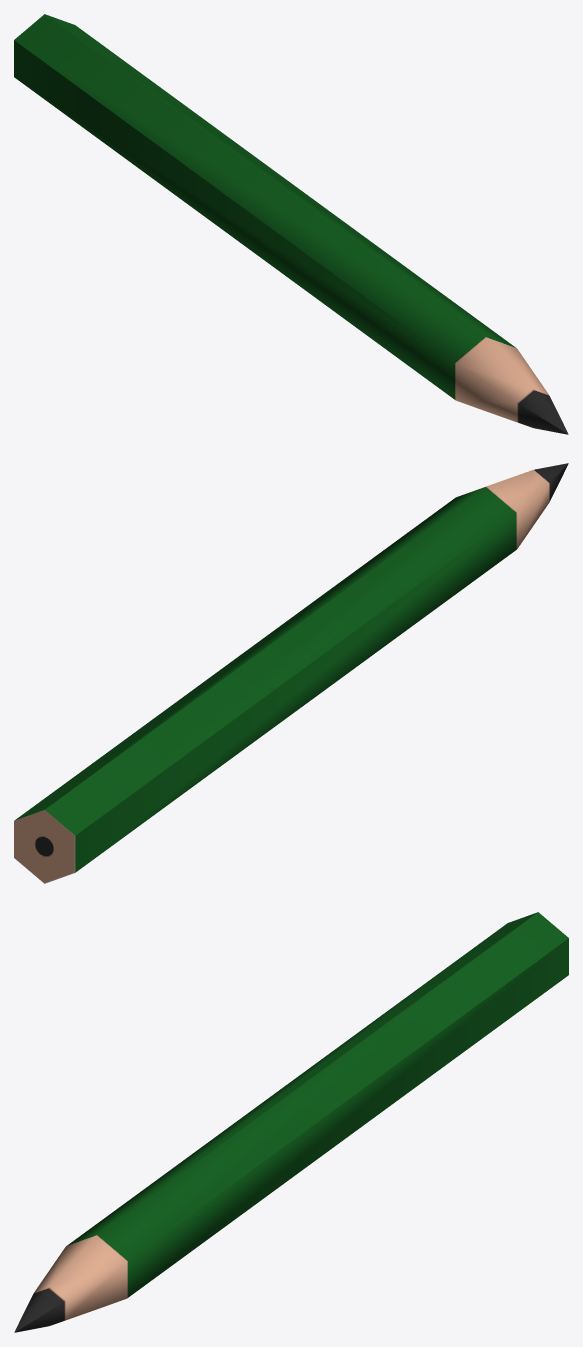
Rendered from accessory_01.glb.
3 renders of one model, top to bottom at view 1: azimuth 30°, elevation 25°; view 2: azimuth 150°, elevation 25°; view 3: azimuth 330°, elevation 25°, orthographic.
Parts seen in each view (by area): view 1: obj1; view 2: obj1; view 3: obj1.
Boxes of the visible parts, <box> form: obj1: <box>14,14,568,434</box>; obj1: <box>14,463,568,883</box>; obj1: <box>14,912,568,1332</box>.
Size of the model in its own units: 0.6928 by 0.8 by 10.26.
Materials: 1 (1 with a texture image).
